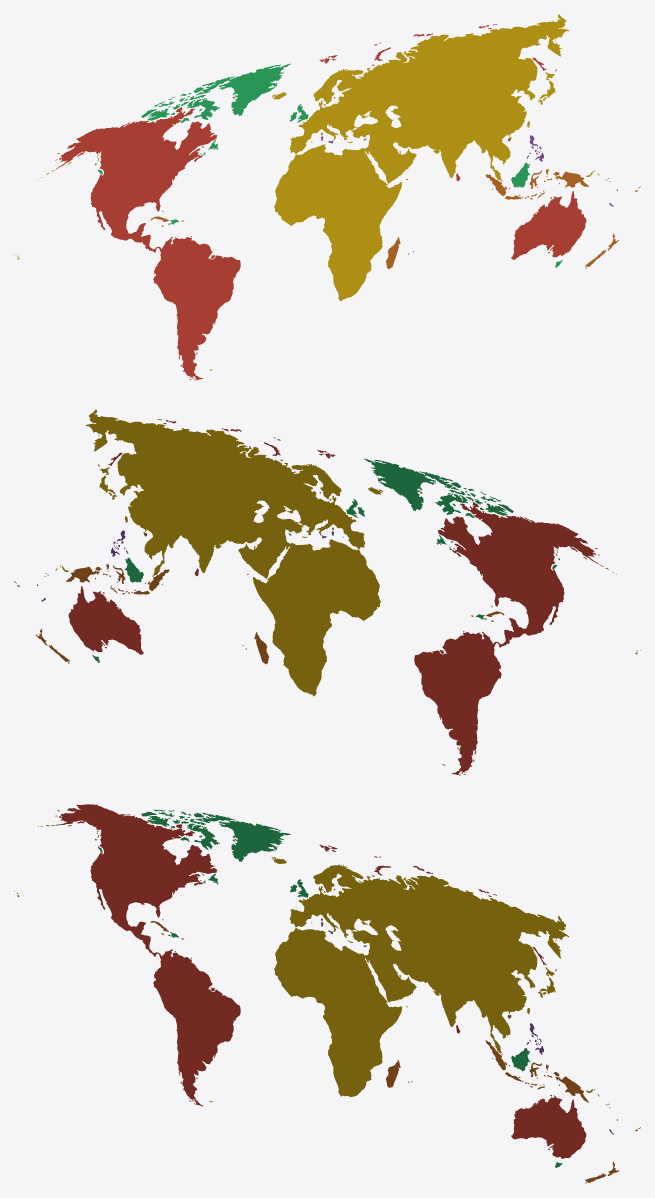
File: Brian_Blender_1.glb
3 renders of one model, top to bottom at view 1: azimuth 30°, elevation 25°; view 2: azimuth 150°, elevation 25°; view 3: azimuth 330°, elevation 25°, orthographic.
Parts seen in each view (by area): view 1: map; view 2: map; view 3: map.
Part boxes in pixels (x1,y1,x2,y2): map: (14,14,640,380); map: (14,409,640,775); map: (14,804,640,1183).
Size of the model in its own units: 9.07 by 4.09 by 0.0189.
